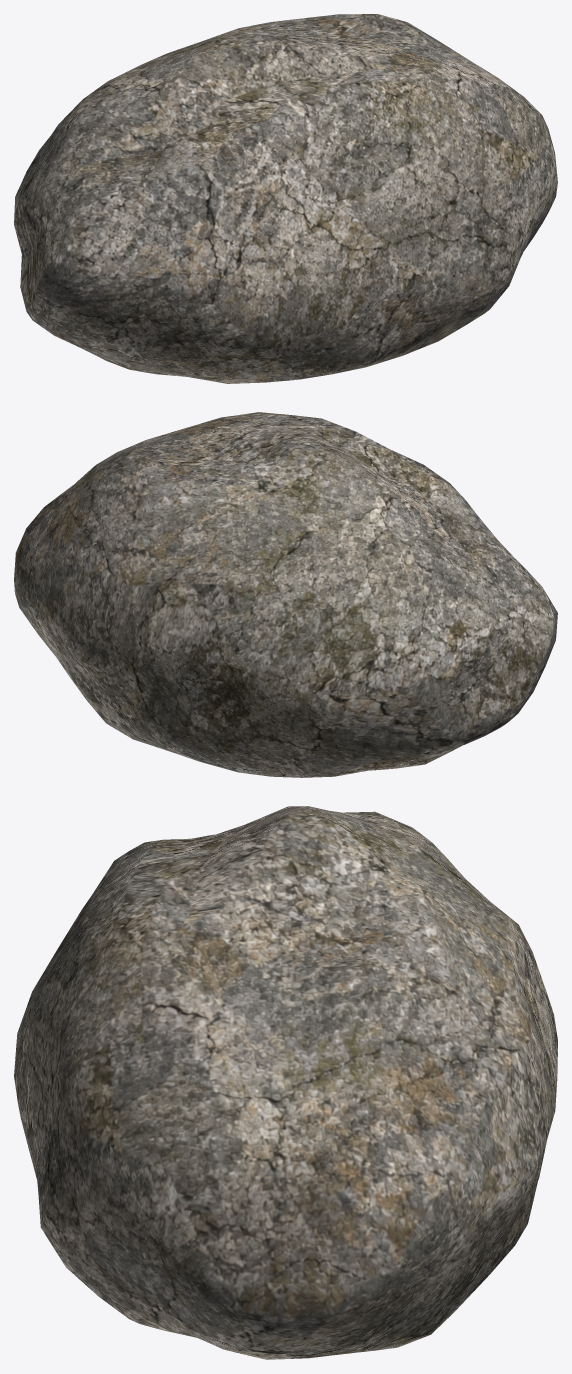
Rendered from rock_2.fbx.
3 renders of one model, top to bottom at view 1: azimuth 30°, elevation 25°; view 2: azimuth 150°, elevation 25°; view 3: azimuth 270°, elevation 25°, orthographic. The views are drawn at different scales.
Visible parts, largest first — view 1: rock_2; view 2: rock_2; view 3: rock_2.
Boxes of the visible parts, x1,y1,x2,y2 form: rock_2: (14,14,557,383); rock_2: (14,412,557,777); rock_2: (14,806,557,1359).
Size of what is drawn, in the model's own units: 2.68 by 1.47 by 1.78.
1 material, 1 textured.
